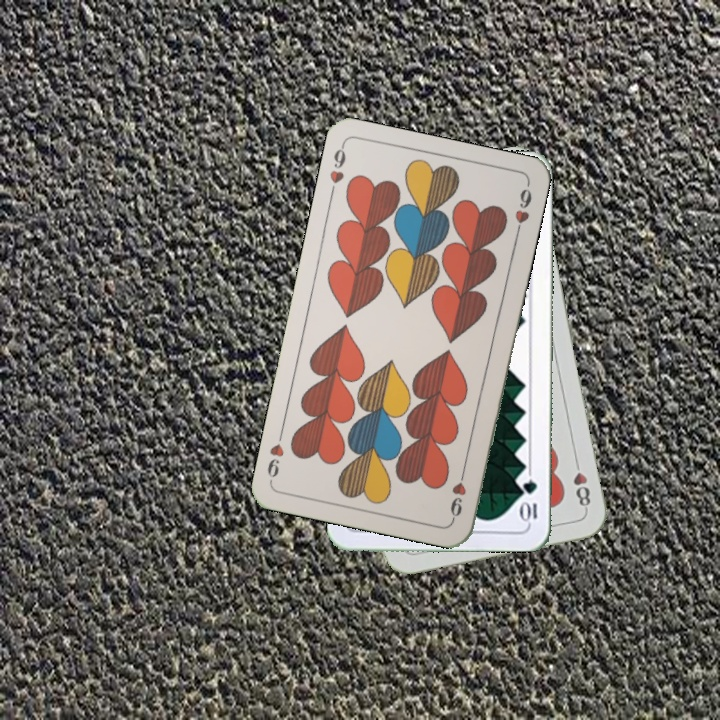G10: (519, 475, 540, 525)
H8: (569, 454, 593, 513)
H9: (325, 141, 349, 200), (446, 464, 469, 522)
